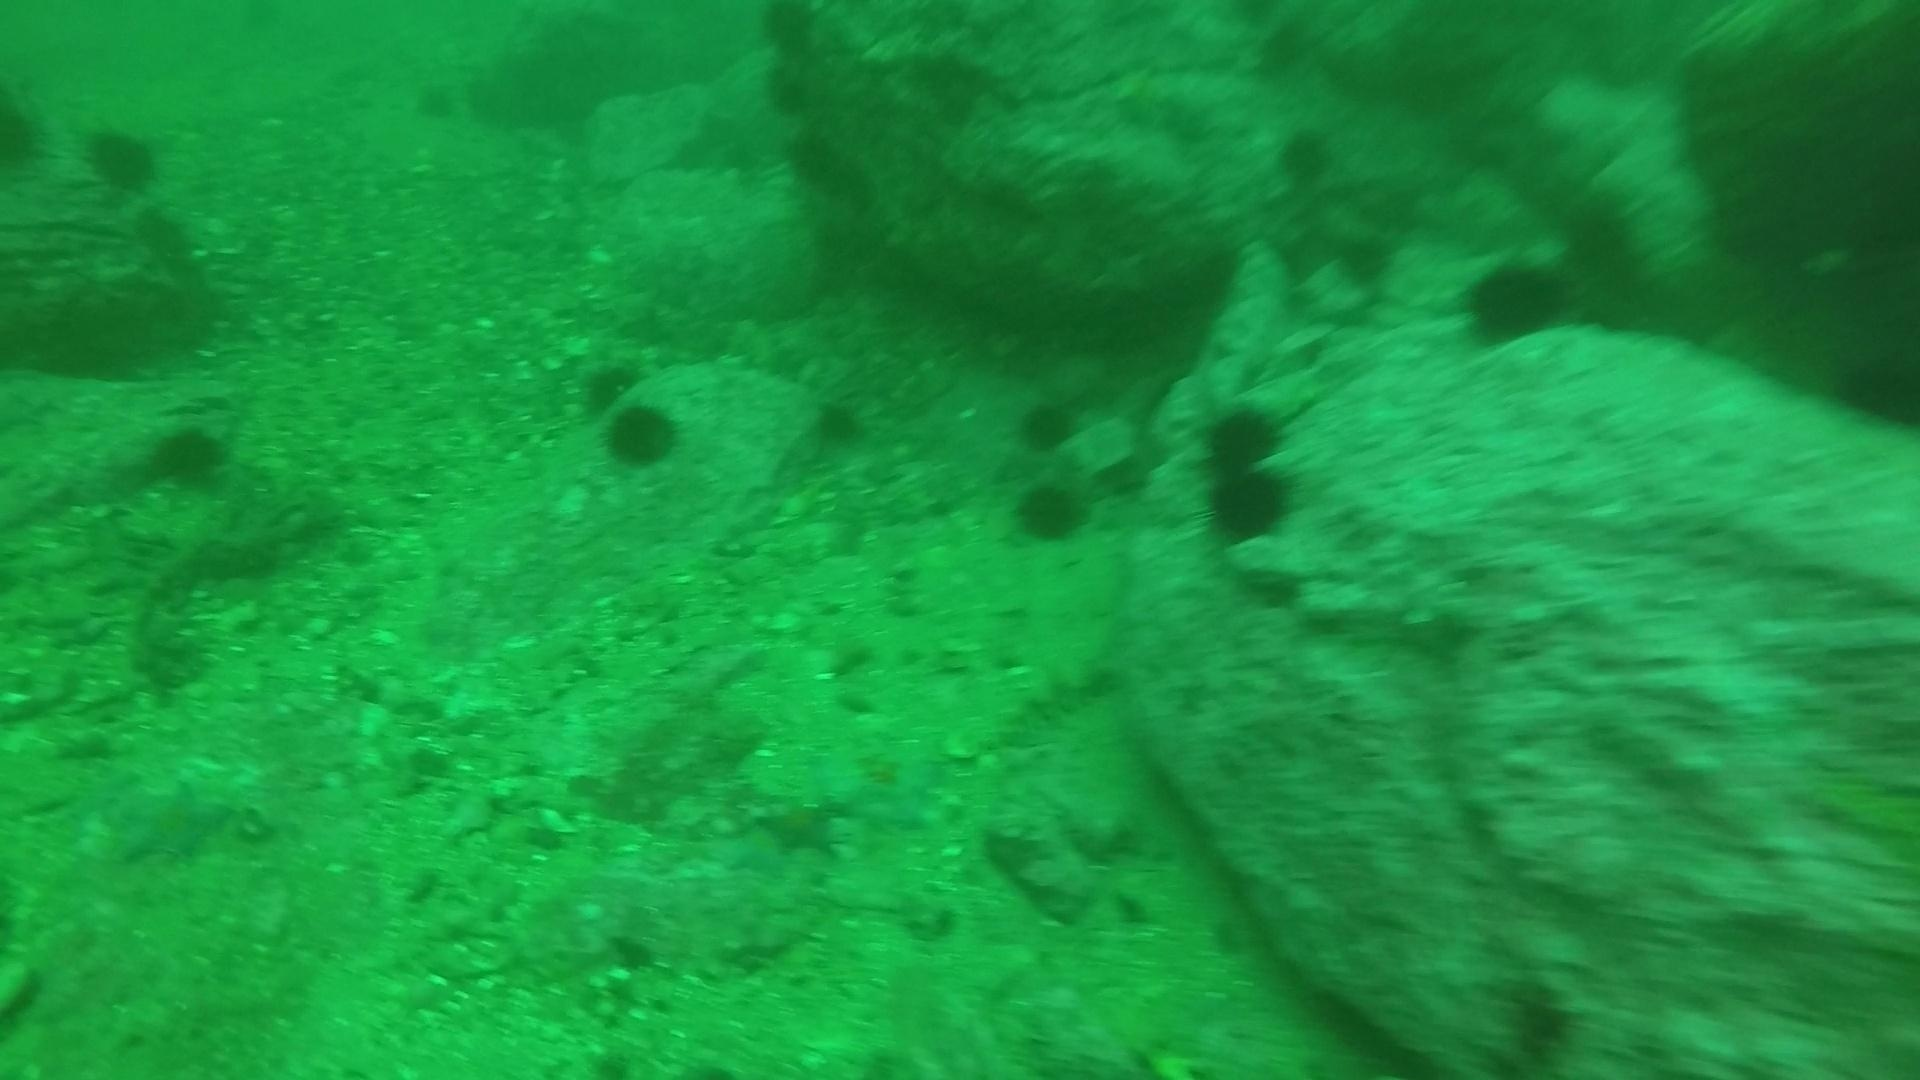echinus: (1455, 251, 1575, 351), (1195, 450, 1300, 549), (1555, 186, 1644, 284), (1829, 342, 1919, 436), (1193, 396, 1291, 480), (138, 415, 236, 495), (593, 392, 686, 475), (78, 117, 166, 198), (1006, 473, 1093, 549), (1269, 120, 1341, 193), (574, 352, 647, 423), (1009, 390, 1087, 458), (1, 83, 51, 181), (1328, 227, 1400, 294), (746, 58, 822, 123), (754, 1, 829, 65), (777, 137, 852, 200), (802, 392, 873, 458)
starfish: (810, 731, 949, 829), (104, 771, 237, 872), (749, 794, 847, 861)
